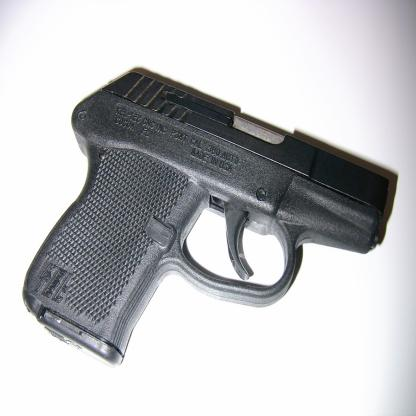Handgun: (22, 70, 389, 367)
